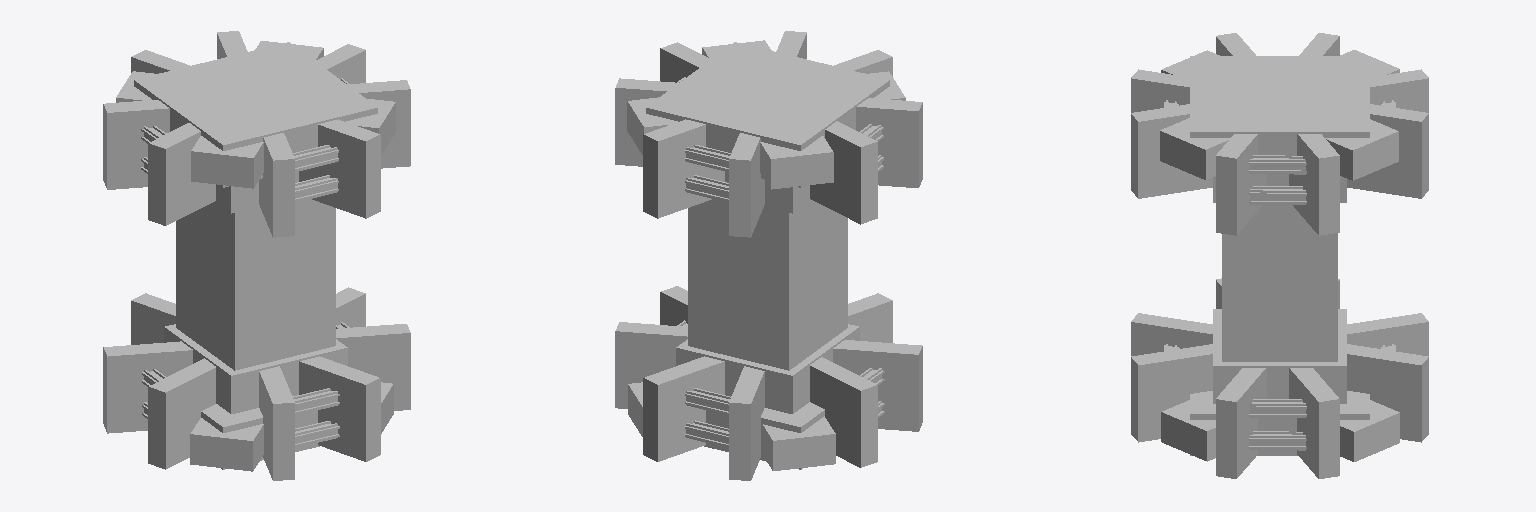
File: doublemolecular.obj
The picture shows the model from 3 angles: view 1: azimuth 30°, elevation 25°; view 2: azimuth 150°, elevation 25°; view 3: azimuth 270°, elevation 25°; orthographic projection.
Visible parts, largest first — view 1: cube.003, cube.002, cube.000, cube.216, cube.196, cube.197, cube.091, cube.111, cube.110, cube.237, cube.130, cube.217 (+14 smaller); view 2: cube.003, cube, cube.000, cube.137, cube.197, cube.196, cube.010, cube.110, cube.111, cube.130, cube.236, cube.136 (+13 smaller); view 3: cube.001, cube.003, cube.216, cube.137, cube.010, cube.091, cube.236, cube.237, cube.071, cube.130, cube.070, cube.007 (+10 smaller).
Boxes of the visible parts, x1,y1,x2,y2 form: cube.003: [134, 42, 377, 187]; cube.002: [235, 199, 335, 370]; cube.000: [176, 202, 234, 370]; cube.216: [299, 356, 380, 461]; cube.196: [148, 358, 215, 469]; cube.197: [103, 341, 192, 433]; cube.091: [299, 119, 380, 218]; cube.111: [148, 123, 215, 225]; cube.110: [103, 100, 169, 189]; cube.237: [336, 324, 410, 410]; cube.130: [164, 324, 347, 413]; cube.217: [259, 366, 294, 480]; cube.003: [646, 42, 889, 187]; cube: [688, 199, 788, 370]; cube.000: [789, 200, 847, 370]; cube.137: [643, 356, 724, 461]; cube.197: [810, 357, 877, 467]; cube.196: [833, 340, 922, 431]; cube.010: [643, 119, 724, 218]; cube.110: [810, 121, 877, 224]; cube.111: [856, 98, 922, 187]; cube.130: [676, 324, 859, 413]; cube.236: [615, 322, 687, 408]; cube.136: [729, 366, 764, 480]; cube.001: [1222, 205, 1337, 361]; cube.003: [1190, 56, 1369, 155]; cube.216: [1131, 344, 1212, 442]; cube.137: [1347, 344, 1428, 442]; cube.010: [1347, 104, 1428, 198]; cube.091: [1131, 104, 1212, 198]; cube.236: [1289, 368, 1339, 478]; cube.237: [1216, 368, 1266, 478]; cube.071: [1289, 134, 1339, 235]; cube.130: [1213, 309, 1346, 403]; cube.070: [1216, 134, 1266, 235]; cube.007: [1325, 119, 1398, 180].
Size of the model in its own units: 0.8331 by 1 by 0.8331.